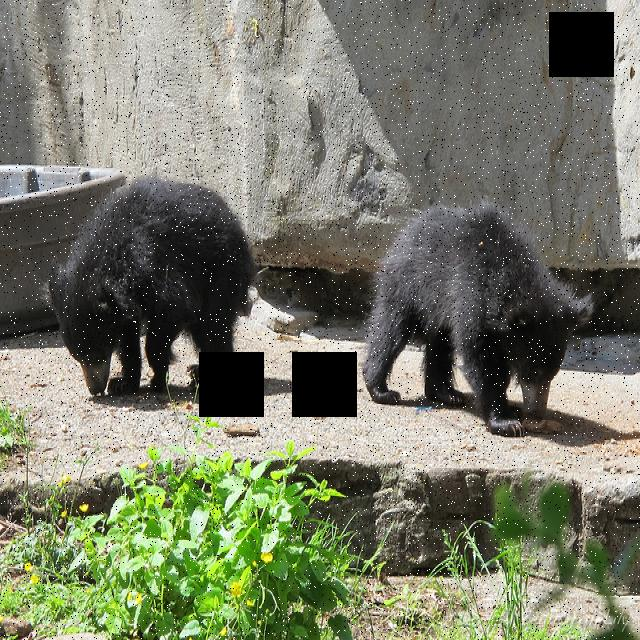Bear: (365, 184, 592, 439), (48, 172, 260, 396)
